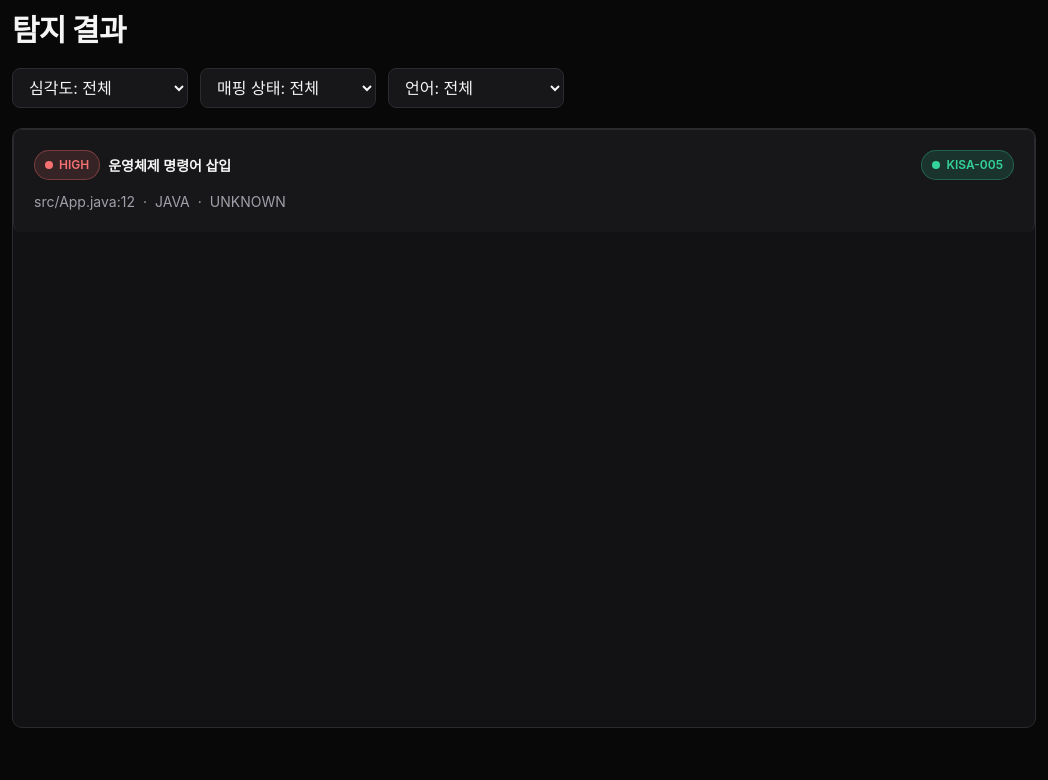
Scenario: E6 results and catalog pages › shows direct result filters and keeps their API query values
Expected: the dropdown named "KISA 매핑 필터" is shown, [200,68,376,108]
Expected: the dropdown named "언어 필터" is shown, [388,68,564,108]
Select "HIGH" in the dropdown named "심각도 필터" at (100, 88), box [12,68,188,108]
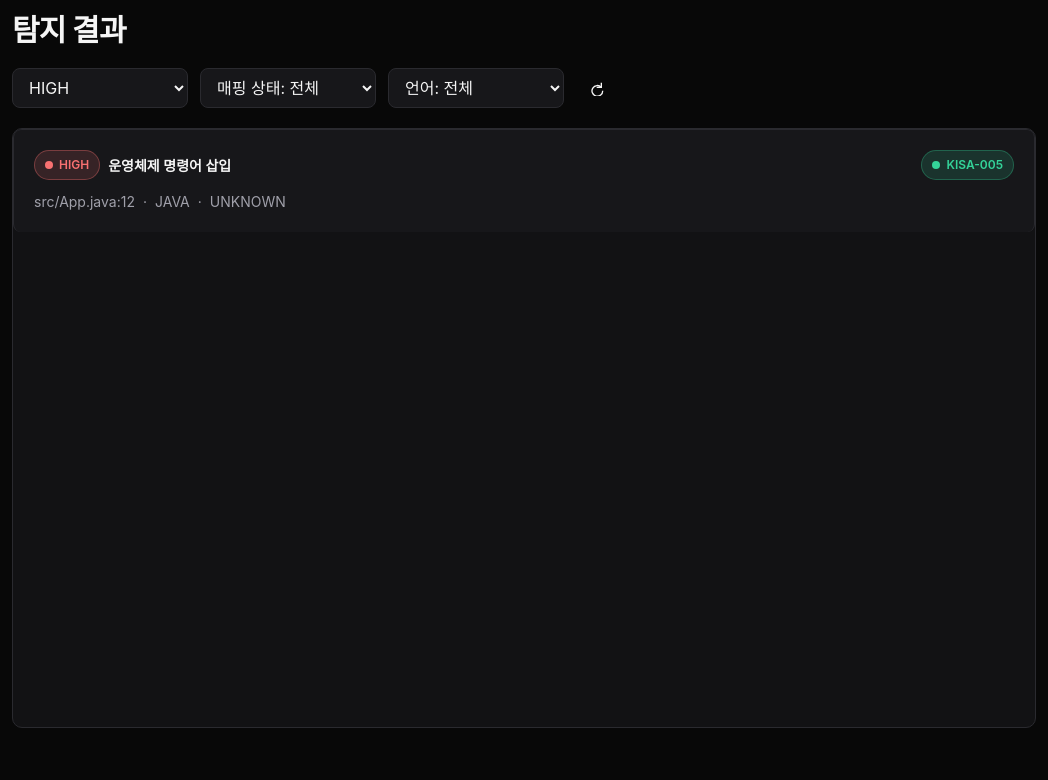
Now the button named "필터 초기화" is shown, box [576,68,616,108]
